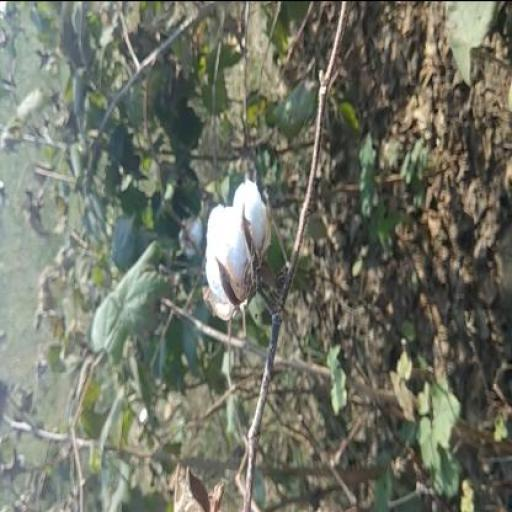cotton_ready: (208, 181, 294, 333)
